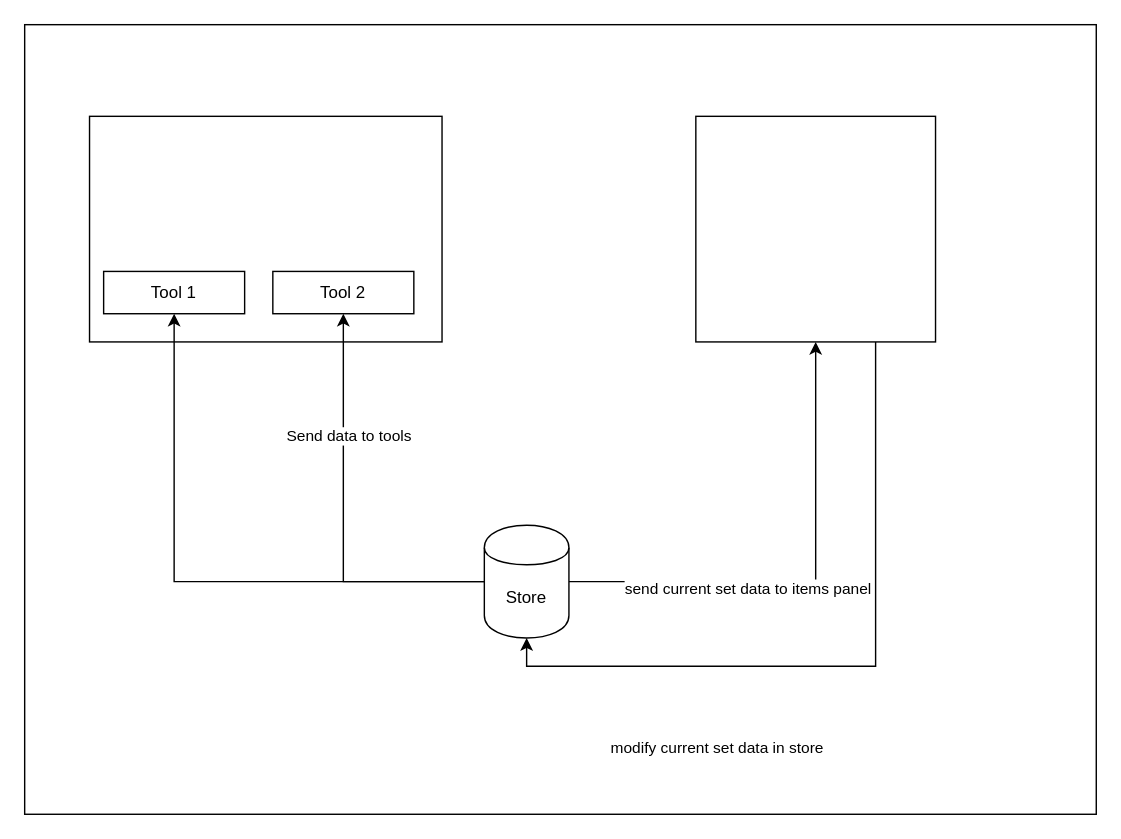
Image size: 1121x839. Some labels were removed from this diagram. The box of each missing label's shape, as (x1, y1, x2, y2) in pixels:
Canvas: (88, 115, 442, 342)
Items Panel: (694, 115, 936, 342)
